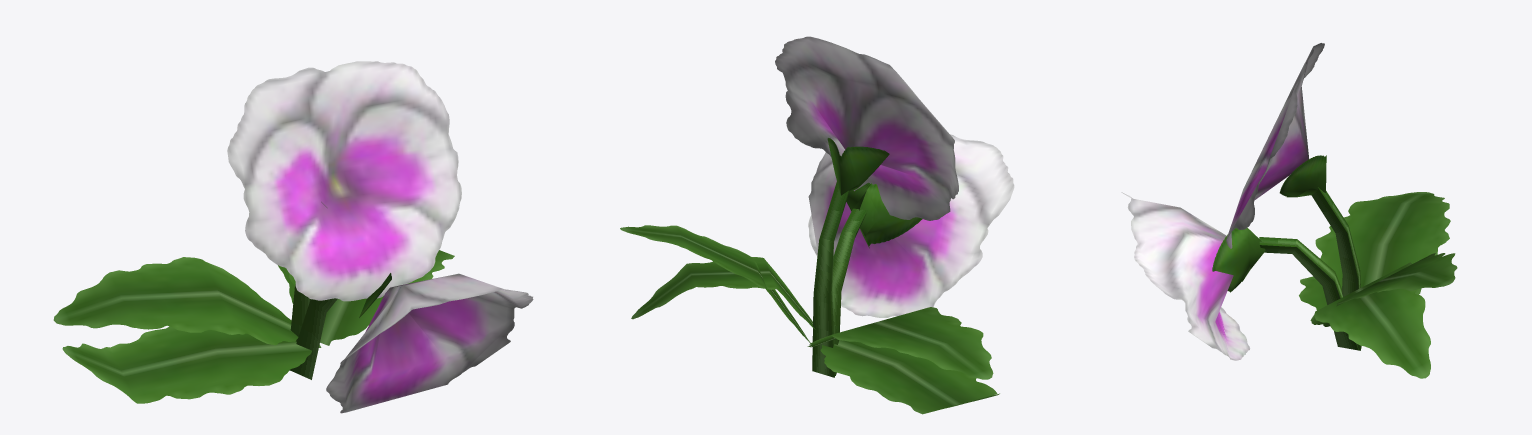
Rendered from pansy.glb.
3 views of the same model, side by side, from view 1: azimuth 30°, elevation 25°; view 2: azimuth 150°, elevation 25°; view 3: azimuth 270°, elevation 25° (orthographic). The views are drawn at different scales.
Parts seen in each view (by area): view 1: desat_petals_bloom, leaf2 (×2), desat_petals_wilt, leaf1, stem (×2); view 2: desat_petals_bloom, desat_petals_wilt, leaf2 (×2), leaf1 (×2), stem (×2), head_wilt, bulb_bloom; view 3: desat_petals_wilt, leaf1 (×2), leaf2 (×2), desat_petals_bloom, stem (×2), head_wilt, bulb_bloom.
Part boxes in pixels (box(x1,y1,x2,y2)): desat_petals_bloom: box(227, 61, 461, 301); leaf2 (×2): box(53, 257, 321, 403); desat_petals_wilt: box(326, 273, 533, 413); leaf1: box(289, 250, 454, 345); stem (×2): box(289, 284, 337, 379); desat_petals_bloom: box(775, 36, 958, 220); desat_petals_wilt: box(808, 134, 1014, 317); leaf2 (×2): box(807, 307, 999, 414); leaf1 (×2): box(620, 225, 815, 343); stem (×2): box(812, 180, 867, 377); head_wilt: box(846, 182, 922, 248); bulb_bloom: box(827, 138, 889, 195); desat_petals_wilt: box(1121, 192, 1250, 360); leaf1 (×2): box(1310, 253, 1457, 378); leaf2 (×2): box(1299, 192, 1450, 310); desat_petals_bloom: box(1226, 43, 1324, 248); stem (×2): box(1259, 187, 1361, 350); head_wilt: box(1212, 227, 1265, 292); bulb_bloom: box(1279, 155, 1326, 197).
Size of the model in its own units: 0.6156 by 0.445 by 0.5496.
Materials: 4 (4 with a texture image).
